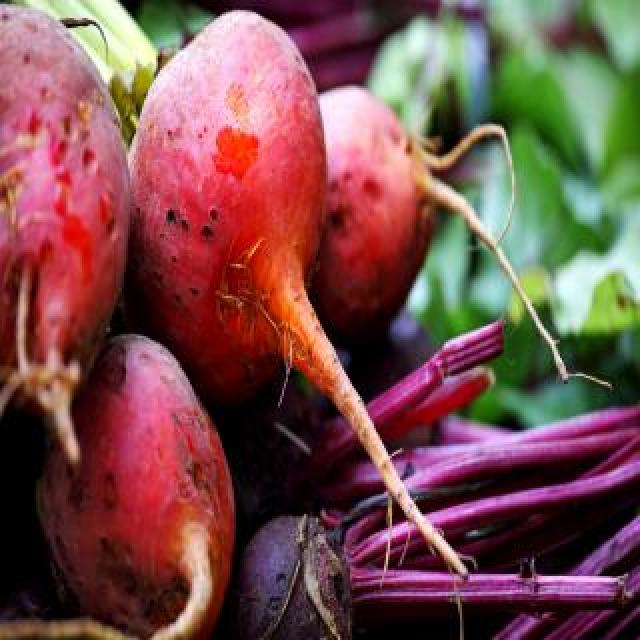Wet: (126, 10, 326, 384), (34, 332, 235, 629), (0, 0, 130, 428), (310, 82, 435, 334)
